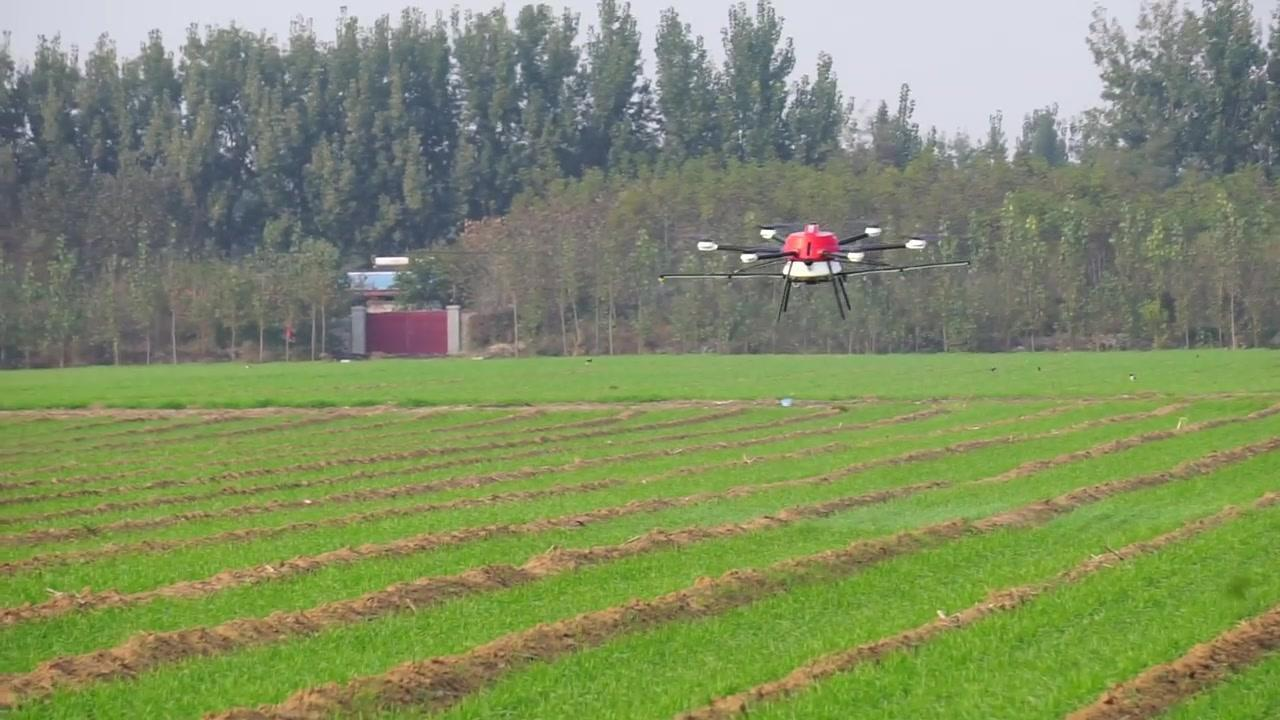UAV: (661, 222, 972, 322)
